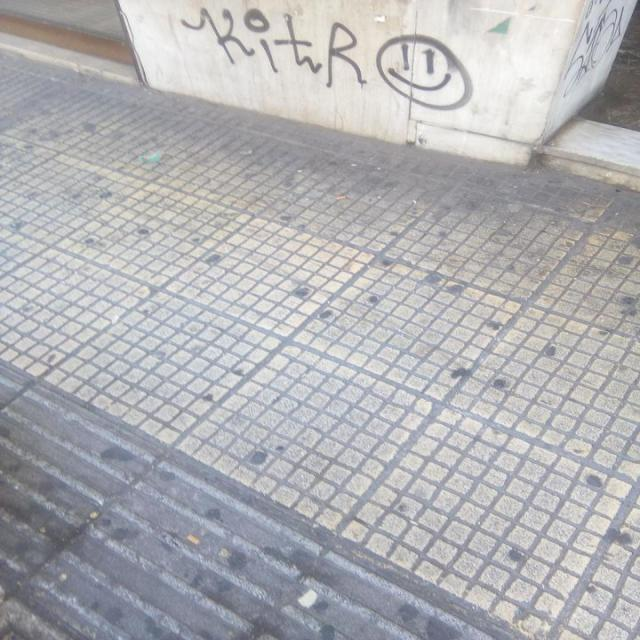nonspitting: (181, 8, 474, 112)
